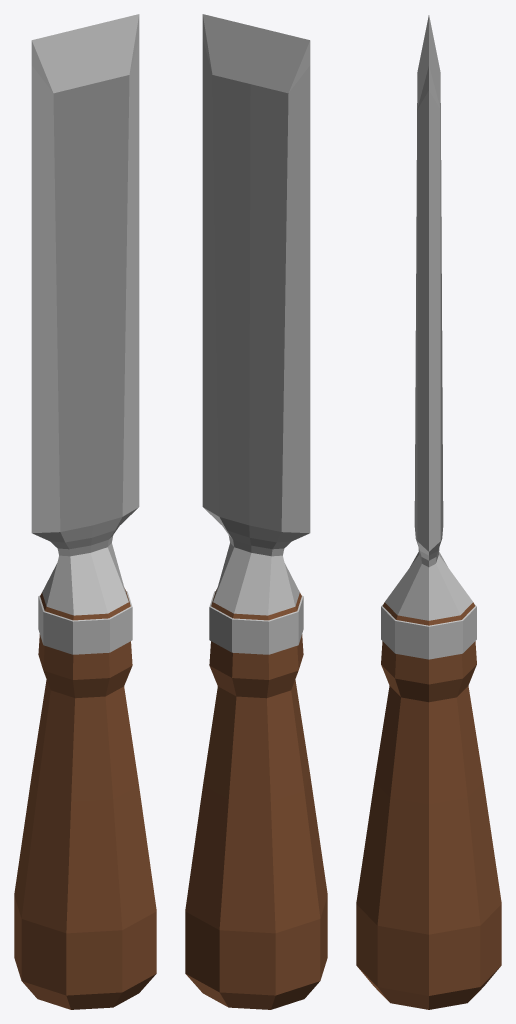
File: chisel01.gltf
3 views of the same model, side by side, from view 1: azimuth 30°, elevation 25°; view 2: azimuth 150°, elevation 25°; view 3: azimuth 270°, elevation 25° (orthographic).
Visible parts, largest first — view 1: Cylinder; view 2: Cylinder; view 3: Cylinder.
Boxes of the visible parts, bbox=[...] form: Cylinder: bbox=[14, 14, 156, 1009]; Cylinder: bbox=[185, 14, 327, 1009]; Cylinder: bbox=[356, 15, 501, 1009].
Bounding box in the file's own units: 0.0303 × 0.2175 × 0.0303.
1 material, 1 textured.
